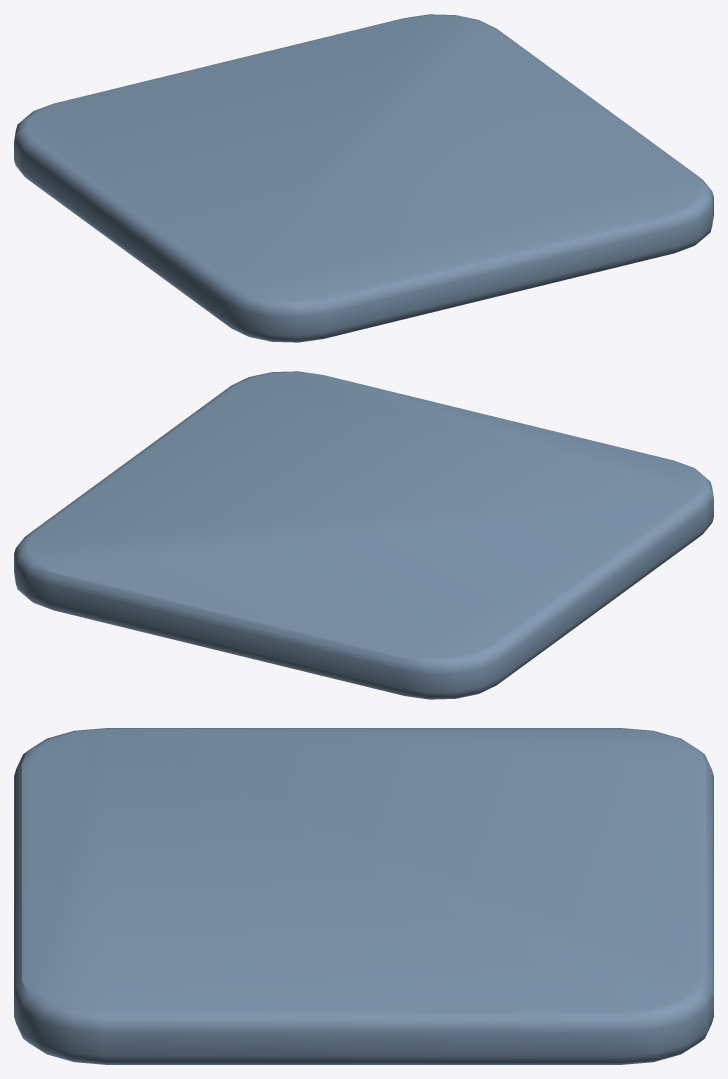
The model's file is GRIDDD.fbx.
3 views of the same model, one above another, from view 1: azimuth 30°, elevation 25°; view 2: azimuth 150°, elevation 25°; view 3: azimuth 270°, elevation 25° (orthographic). The views are drawn at different scales.
Parts seen in each view (by area): view 1: Plane.002; view 2: Plane.002; view 3: Plane.002.
Part boxes in pixels (<box>): Plane.002: <box>14,14,713,342</box>; Plane.002: <box>14,371,713,699</box>; Plane.002: <box>14,728,713,1064</box>.
Size of the model in its own units: 12.5 by 1.02 by 12.5.
